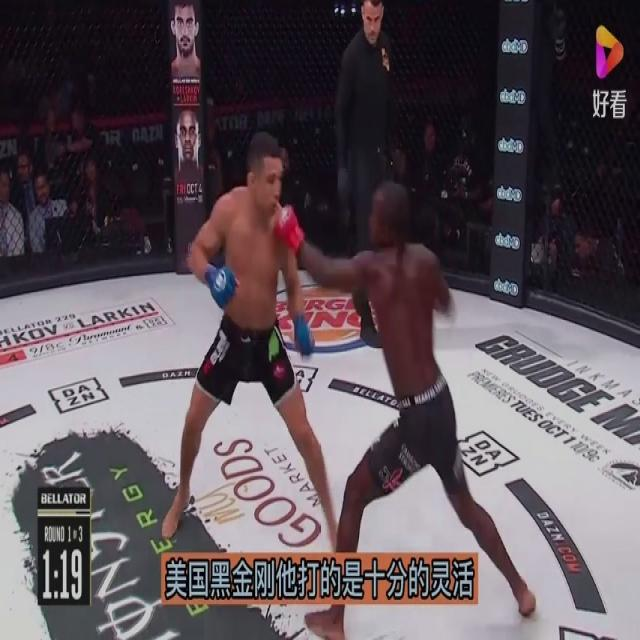fight: (166, 134, 528, 637)
non-fight: (335, 0, 394, 341)
